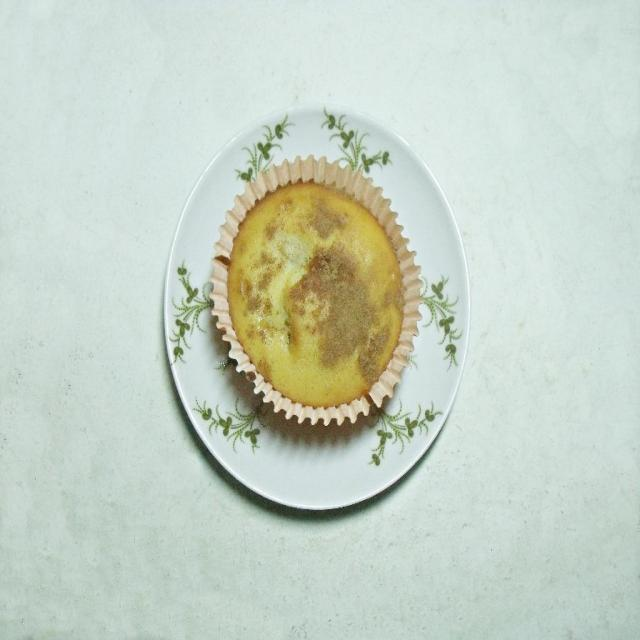Muffin: (221, 144, 419, 474)
